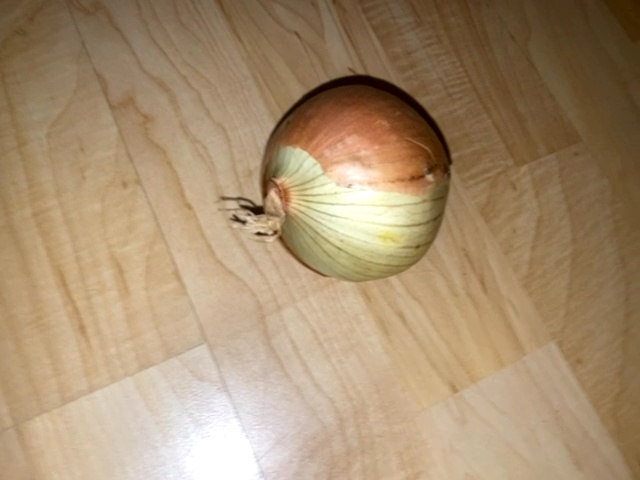onion: (218, 61, 459, 293)
